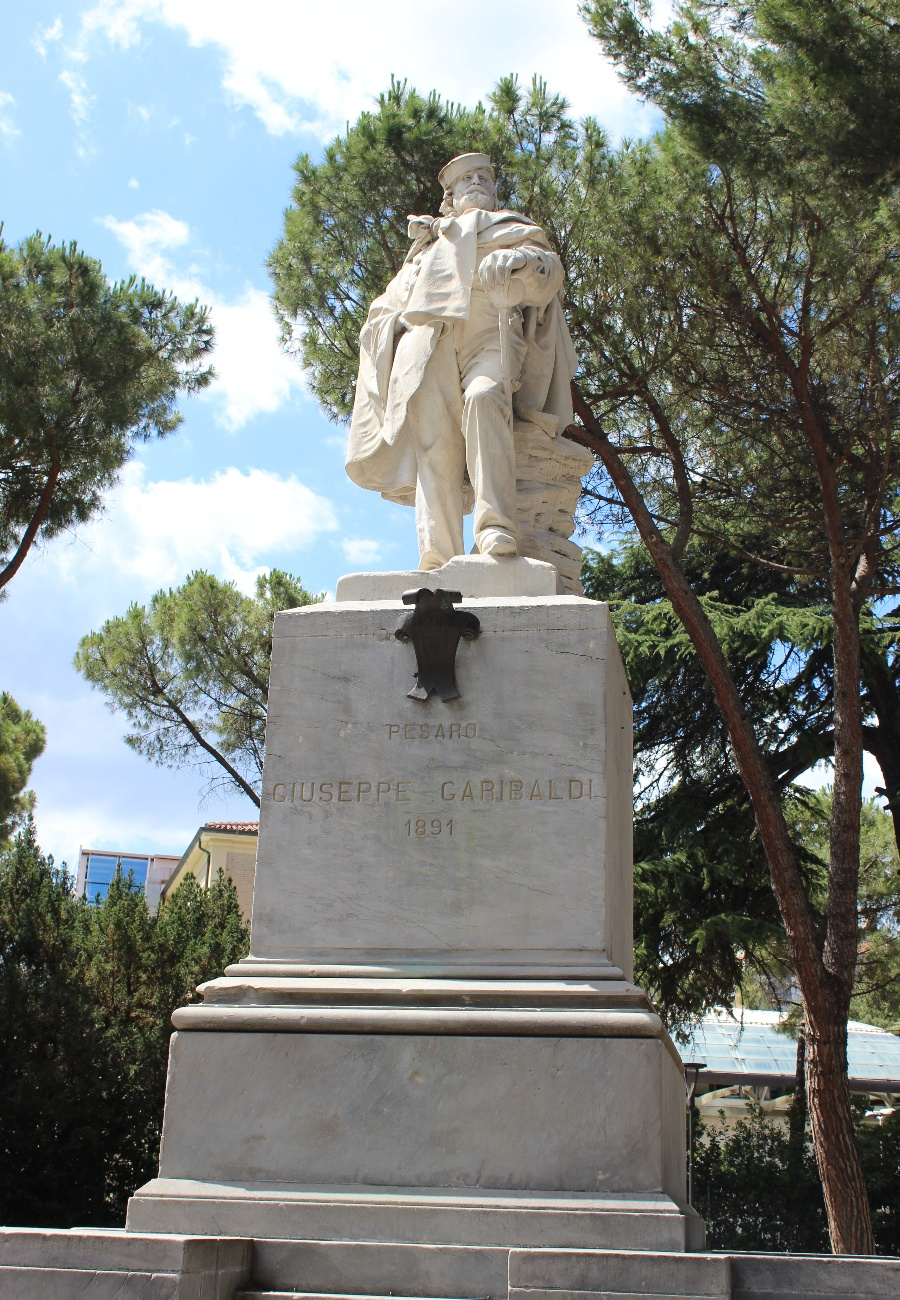Giuseppe Garibaldi: (344, 151, 583, 572)
